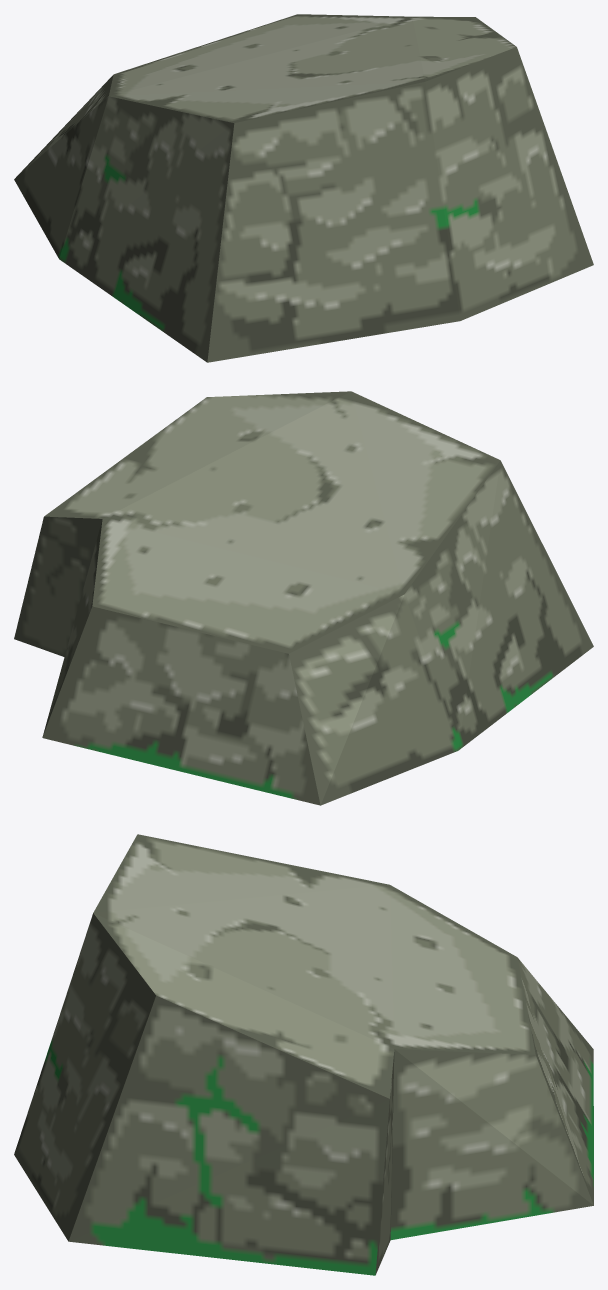
File: ForestRock_Large01.fbx
3 views of the same model, one above another, from view 1: azimuth 30°, elevation 25°; view 2: azimuth 150°, elevation 25°; view 3: azimuth 270°, elevation 25° (orthographic). The views are drawn at different scales.
Visible parts, largest first — view 1: ForestRock_Large01; view 2: ForestRock_Large01; view 3: ForestRock_Large01.
Boxes of the visible parts, x1,y1,x2,y2 form: ForestRock_Large01: (14,14,593,362); ForestRock_Large01: (14,391,593,805); ForestRock_Large01: (14,834,593,1275).
Bounding box in the file's own units: 28.39 × 12.74 × 27.66.
